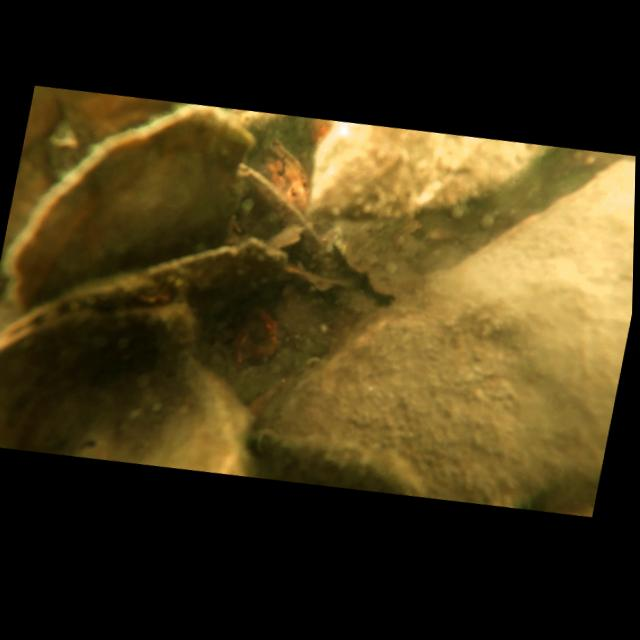Oyster-Indeterminate: (236, 97, 637, 537), (0, 267, 279, 492), (297, 106, 545, 274)
Oyster-Open: (0, 69, 324, 388)
